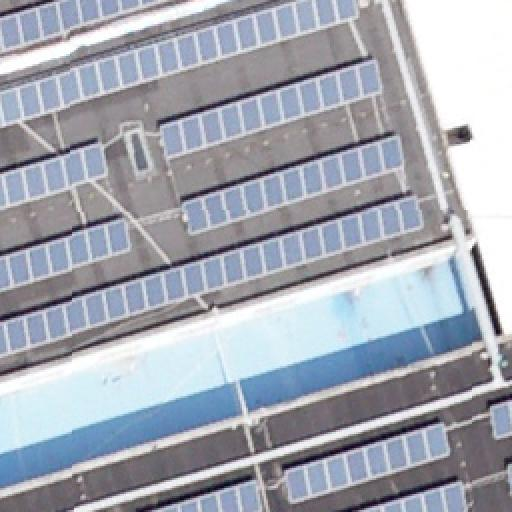solar-panel: (0, 194, 424, 354), (0, 0, 364, 128), (159, 59, 385, 157), (179, 133, 405, 227), (284, 419, 456, 501), (0, 215, 136, 289), (0, 0, 172, 52), (0, 141, 112, 211), (140, 476, 264, 512), (358, 480, 474, 512), (488, 399, 512, 441), (504, 462, 512, 486)
